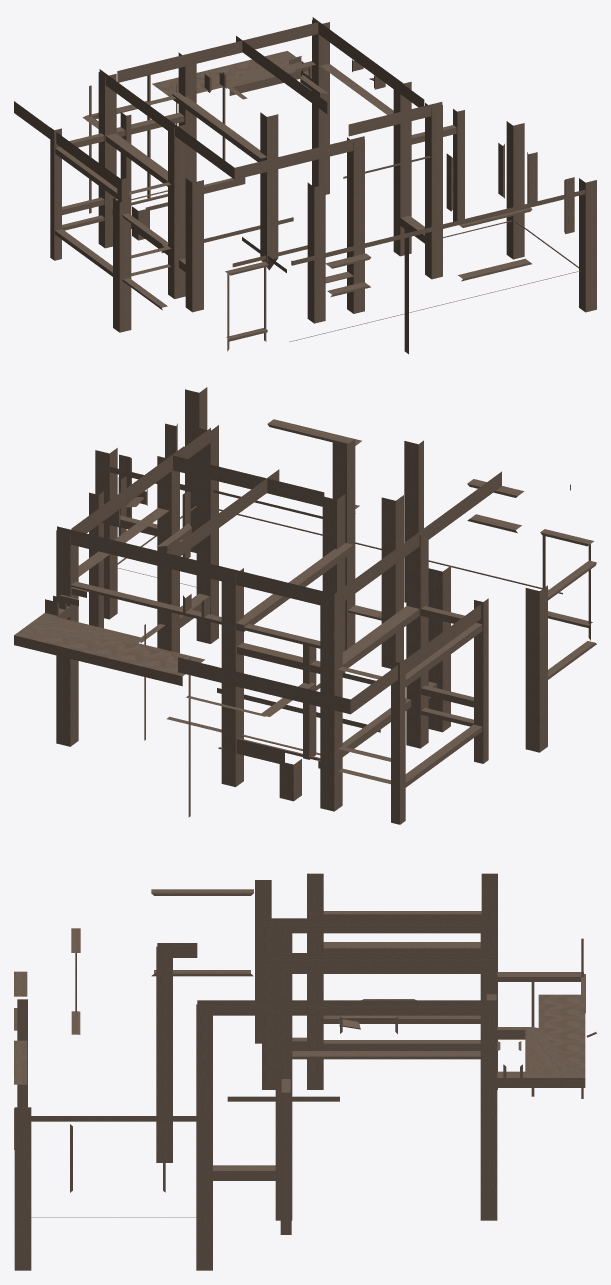
The model's file is kd_stage_135b75_4_33.glb.
3 renders of one model, top to bottom at view 1: azimuth 30°, elevation 25°; view 2: azimuth 150°, elevation 25°; view 3: azimuth 270°, elevation 25°, orthographic. The views are drawn at different scales.
Parts seen in each view (by area): view 1: kd_stage_135b75_4_33; view 2: kd_stage_135b75_4_33; view 3: kd_stage_135b75_4_33.
Boxes of the visible parts, x1,y1,x2,y2 form: kd_stage_135b75_4_33: [14, 17, 596, 354]; kd_stage_135b75_4_33: [14, 387, 596, 824]; kd_stage_135b75_4_33: [14, 873, 596, 1270].
Size of the model in its own units: 9.98 by 4.39 by 10.51.
1 material, 1 textured.
